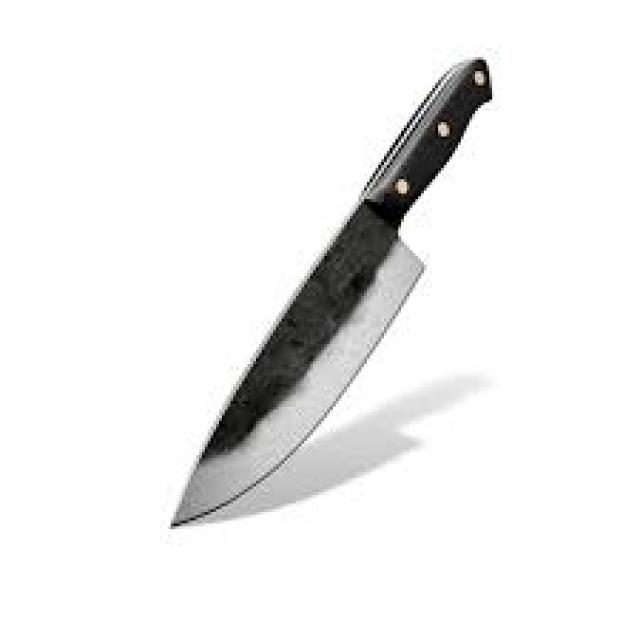Knife: (168, 54, 492, 526)
